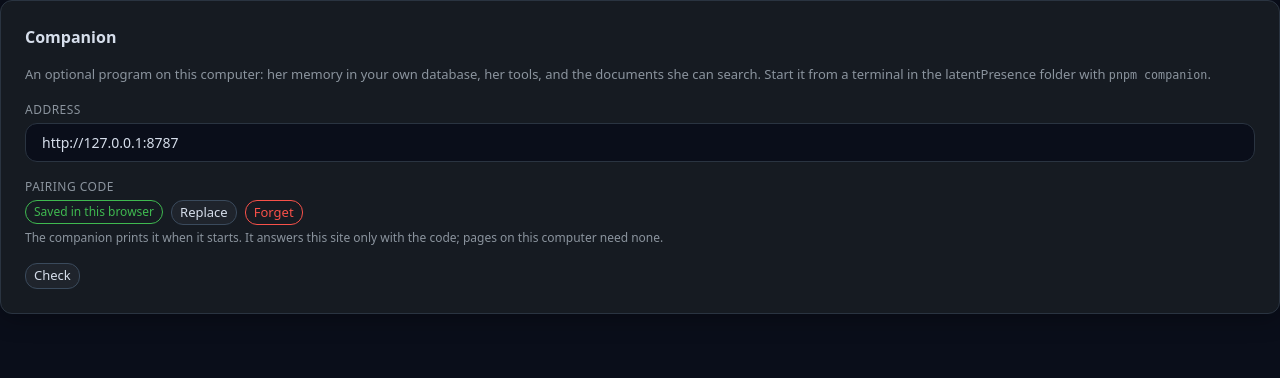
Scenario: Settings → Companion in a browser (P8-T03, ADR-64) › a code saved earlier shows as saved, and Replace asks for a new one
Check: the text "Saved in this browser" is shown, box [25,200,163,224]
Click the button "Replace" at (204, 212), box [171,200,237,225]
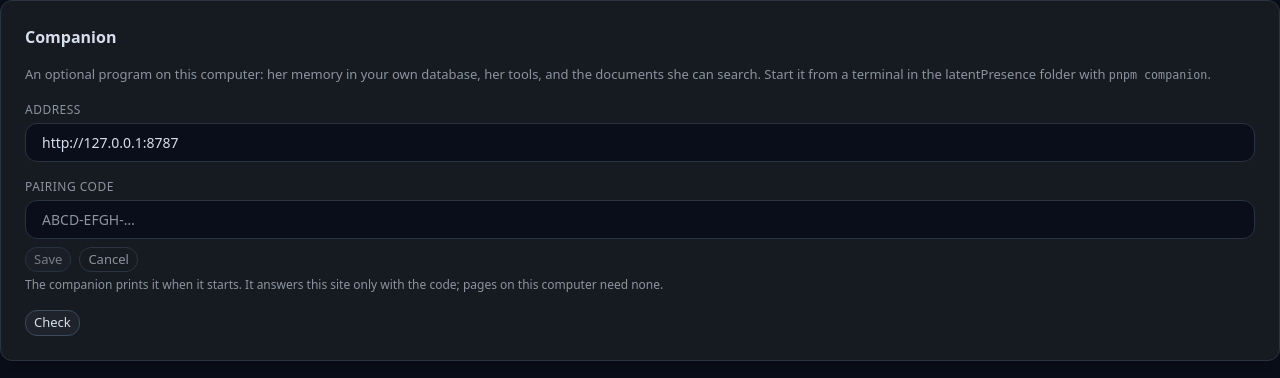
Check: the button "Cancel" is shown, box [79,246,138,272]
